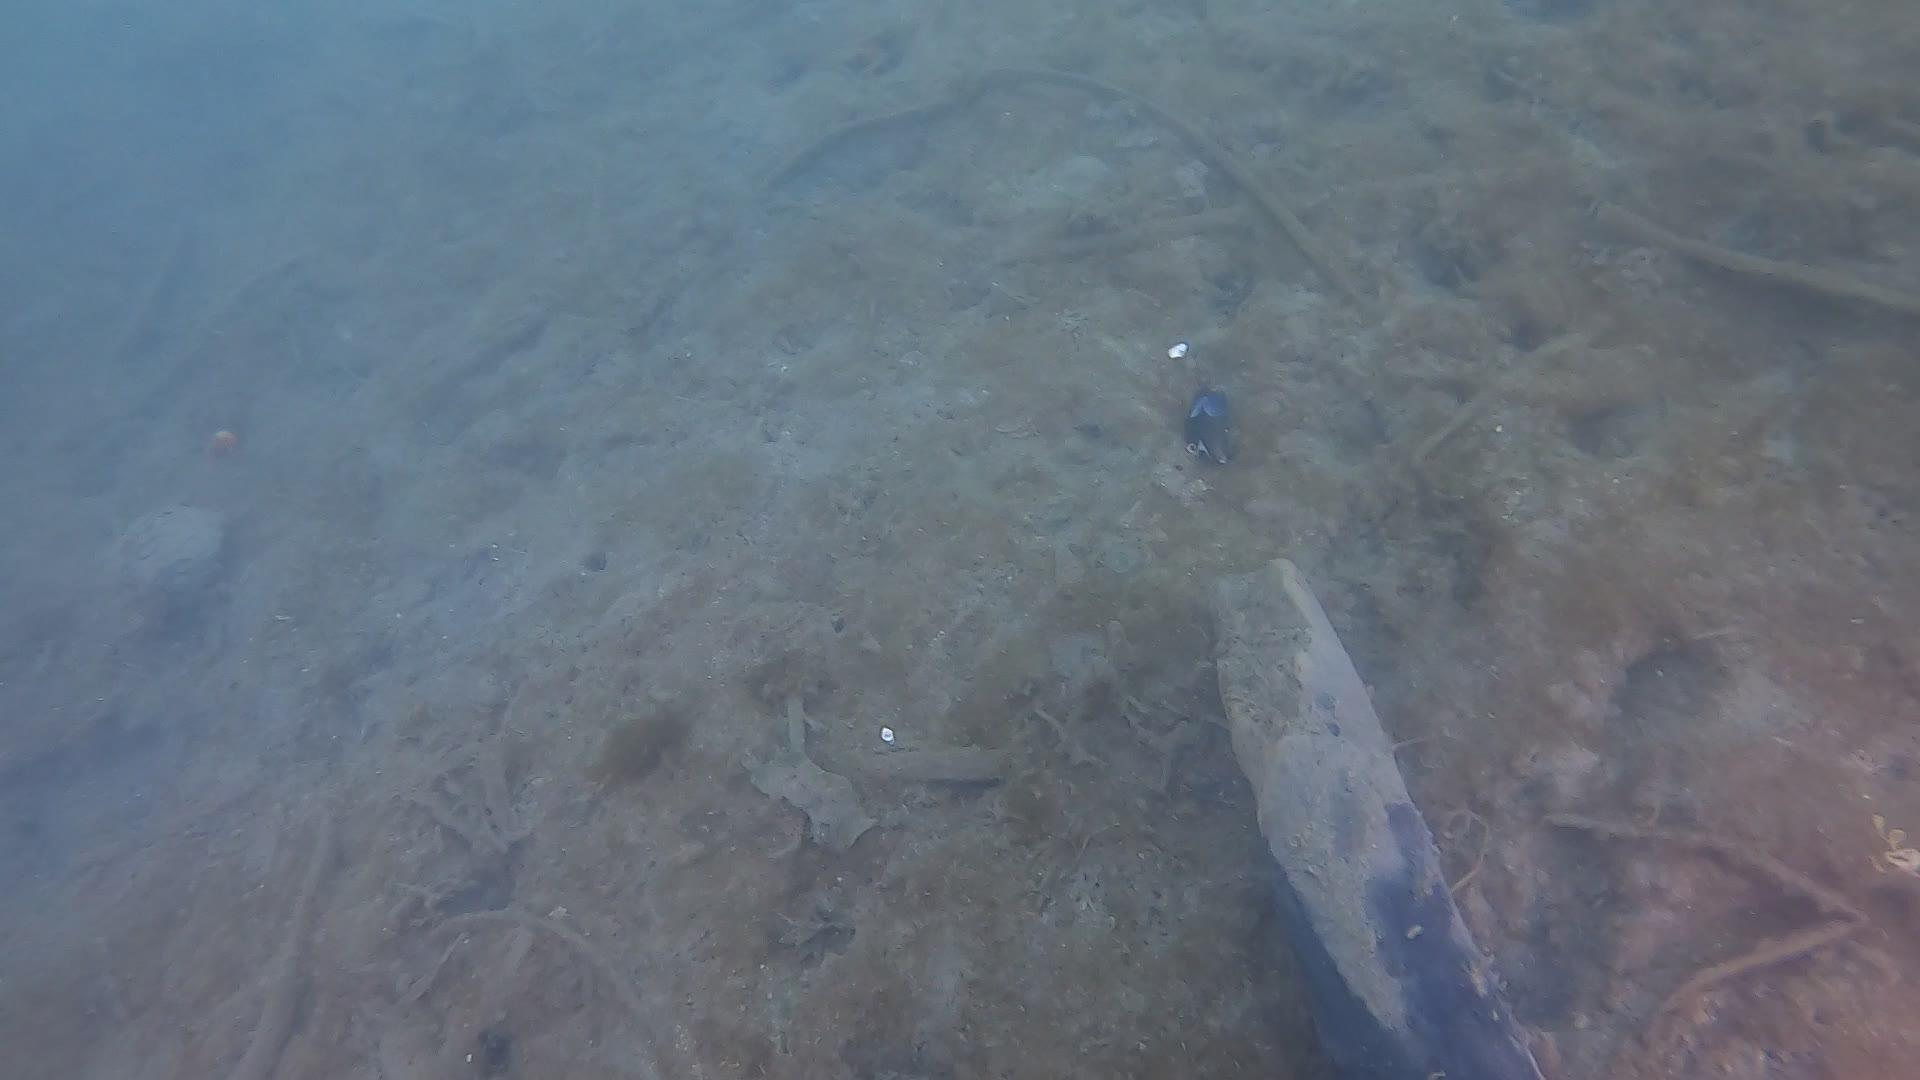wood: (1203, 555, 1559, 1080)
